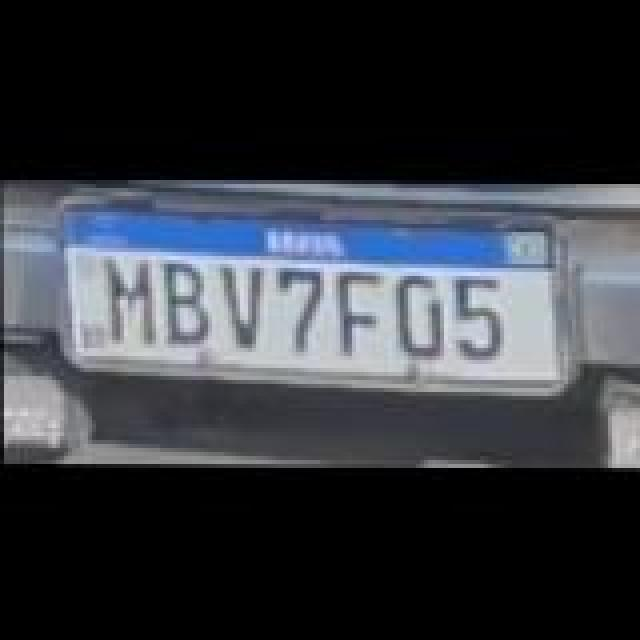5: (446, 272, 510, 356)
7: (274, 264, 338, 348)
B: (156, 256, 216, 340)
D: (390, 268, 454, 352)
F: (330, 266, 394, 354)
M: (98, 252, 162, 340)
V: (212, 260, 272, 344)
